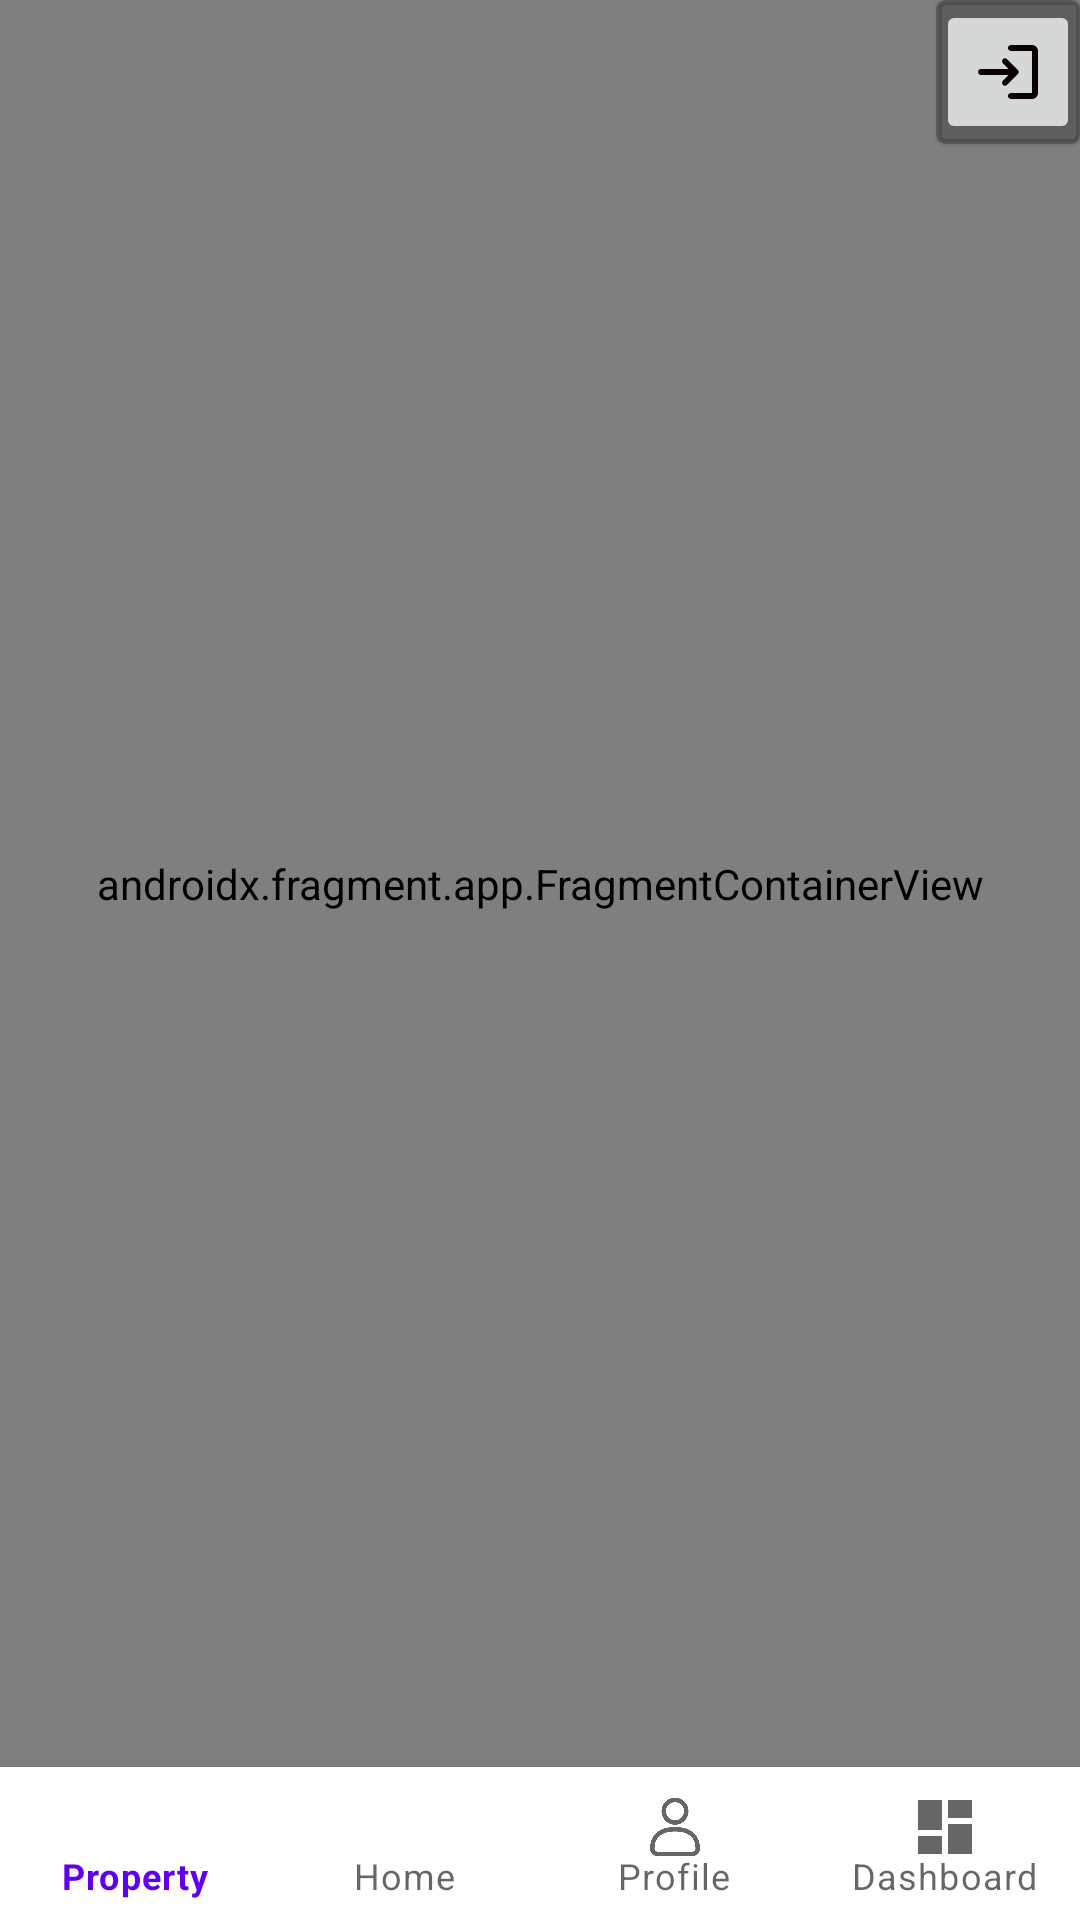

Where icons sit on this 1080×1920 app screen, as bbox=(x1, y1, x2, y2):
log in: bbox=(936, 0, 1080, 144)
